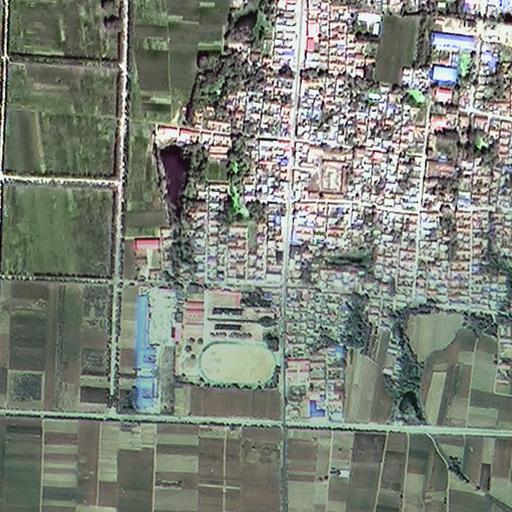school: (175, 291, 280, 387)
